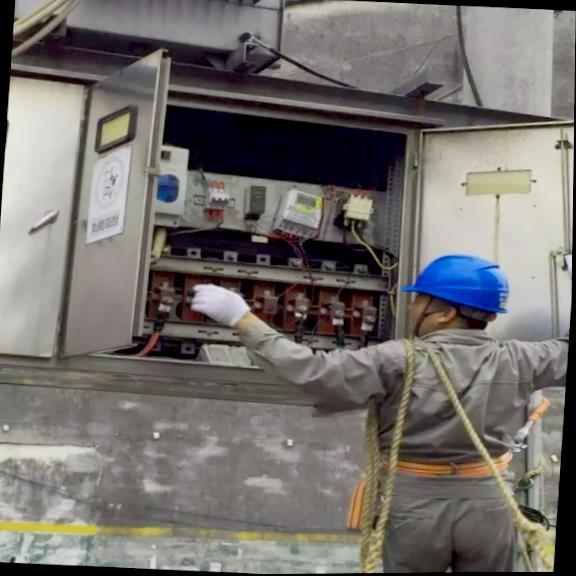no_safety_vest: (335, 318, 569, 518)
